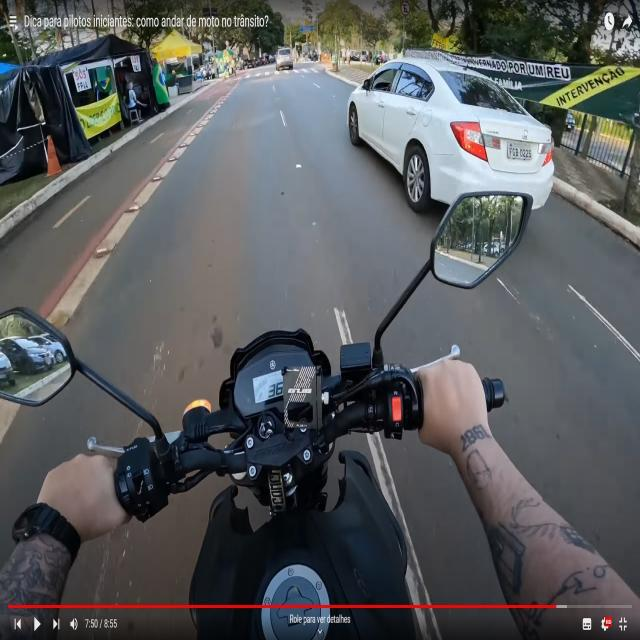Placa_mercosul_carro: (507, 145, 532, 160)
